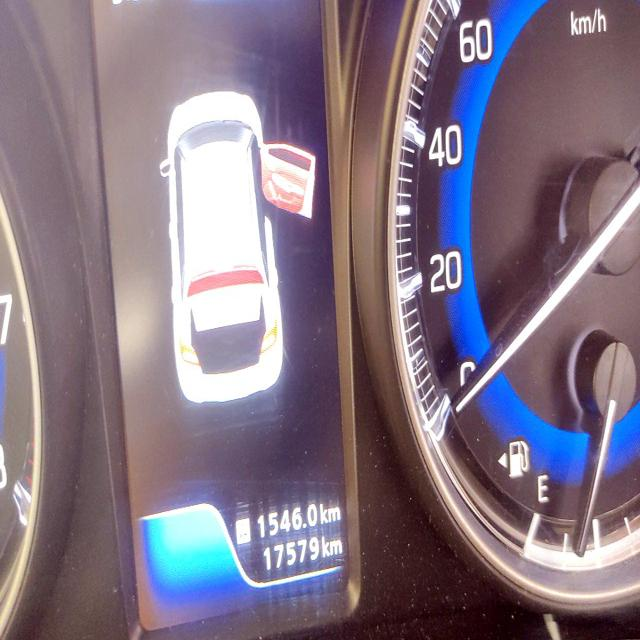odometer: (259, 530, 321, 580)
